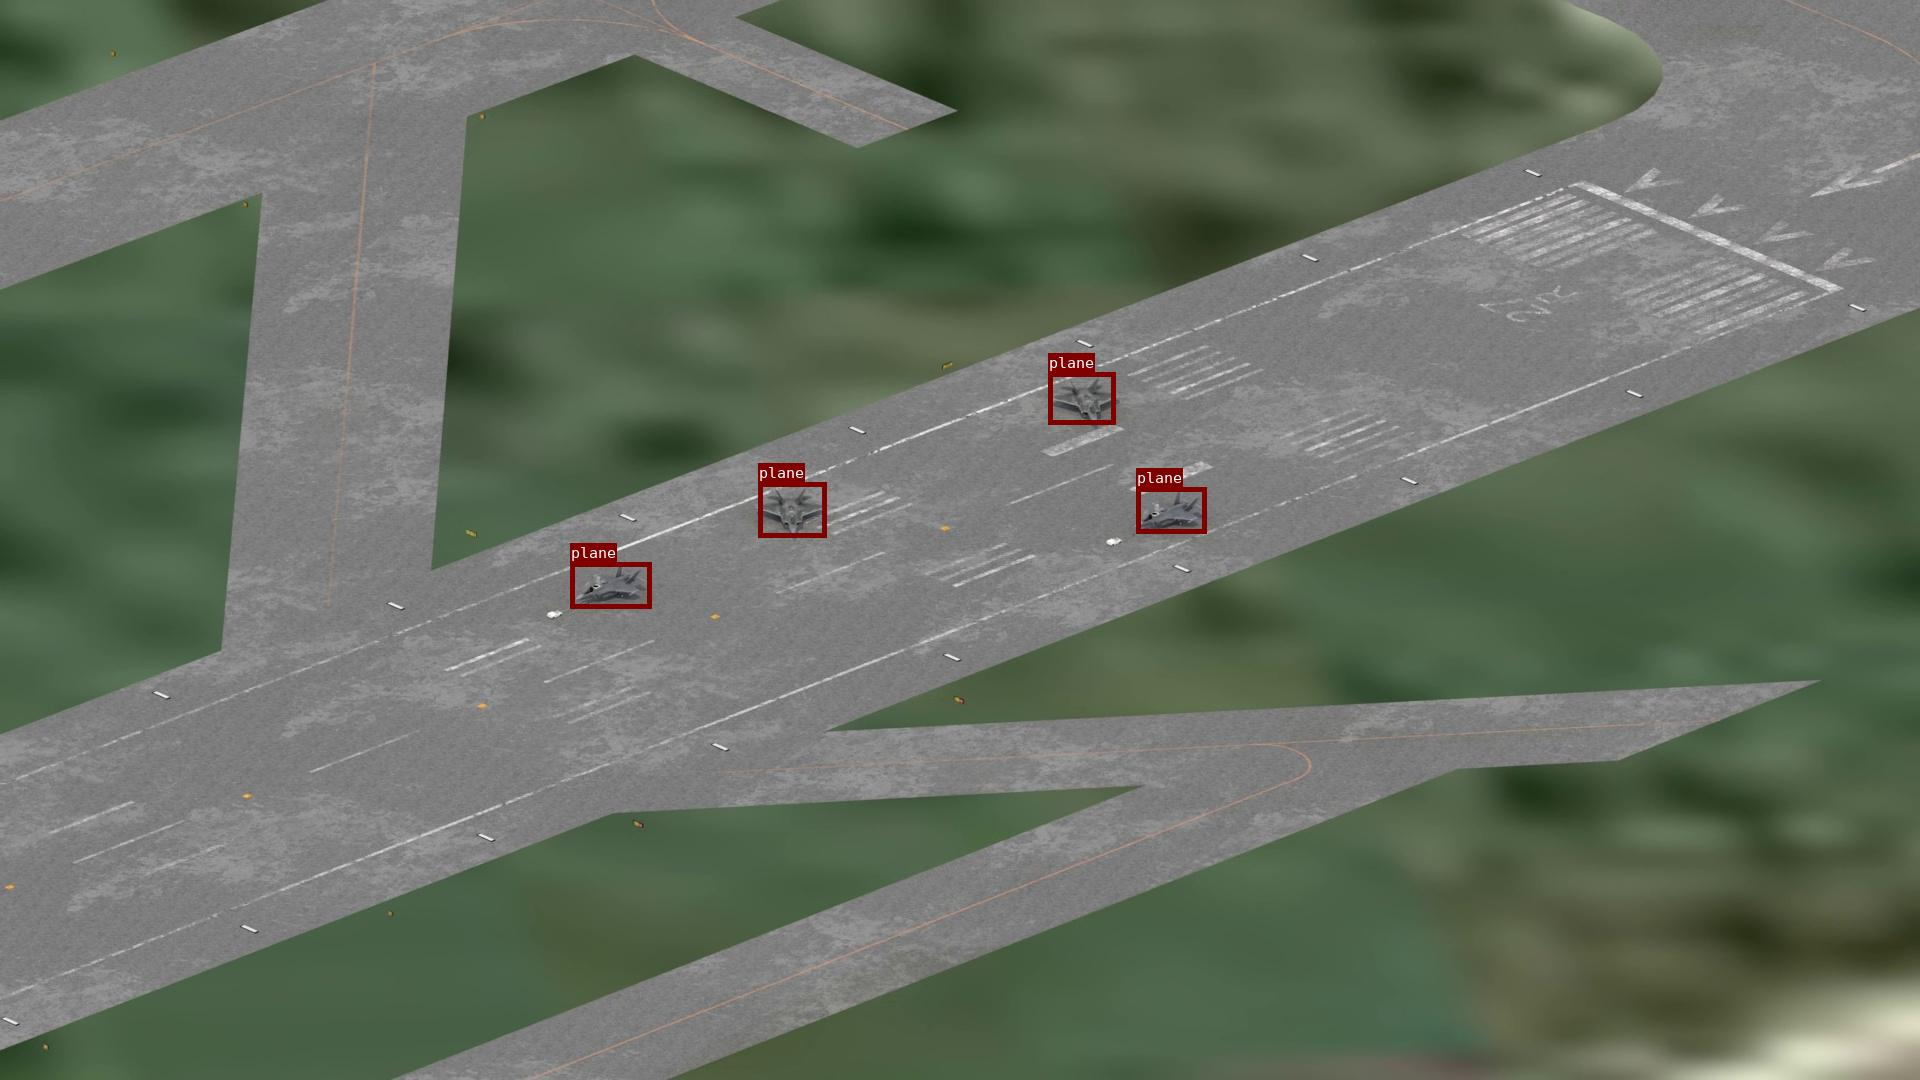plane: (570, 562, 651, 608), (758, 483, 825, 537), (1048, 372, 1116, 425), (1135, 487, 1207, 533)
